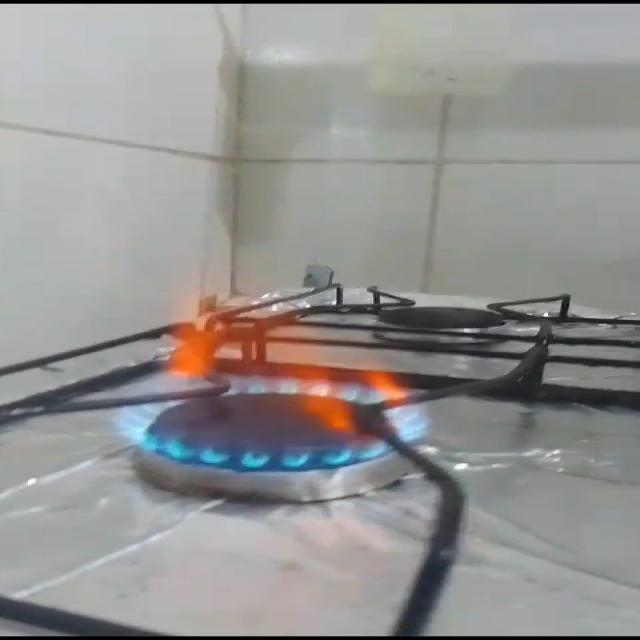fire: (116, 240, 437, 477)
